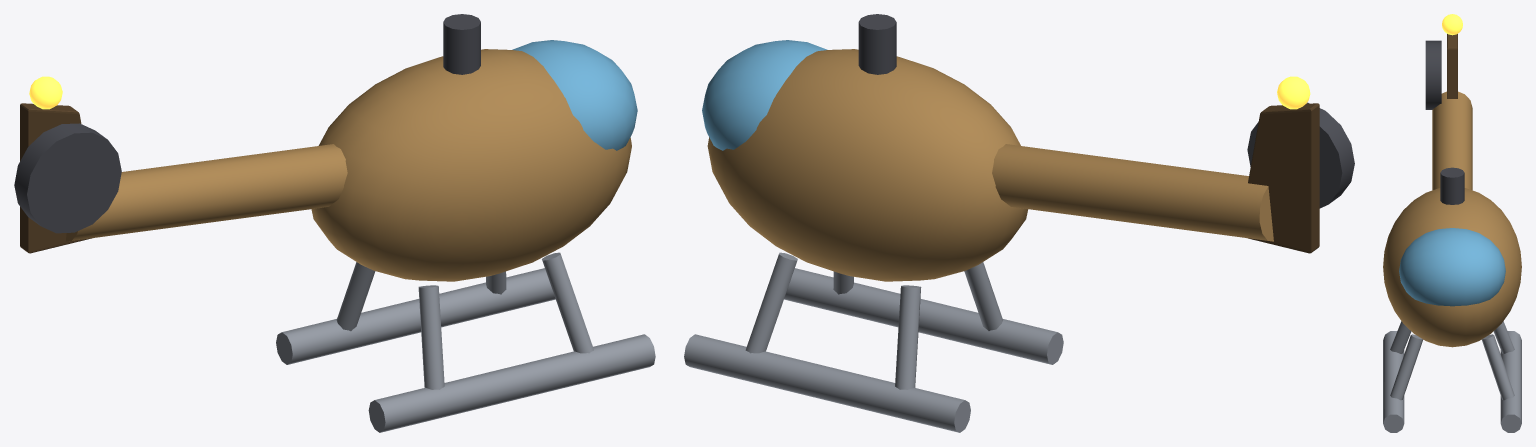
Rendered from heli_l.glb.
3 views of the same model, side by side, from view 1: azimuth 30°, elevation 25°; view 2: azimuth 150°, elevation 25°; view 3: azimuth 270°, elevation 25° (orthographic). The views are drawn at different scales.
Visible parts, largest first — view 1: body, boom, skid, tail rotor, skid.001, canopy, fin, strut, mast, strut.001, strut.002, lamp; view 2: body, boom, skid.001, fin, skid, canopy, tail rotor, mast, strut.002, strut.003, strut, lamp; view 3: body, canopy, boom, skid, skid.001, tail rotor, strut.001, strut.003, mast, fin, strut, strut.002 (+1 smaller).
Part boxes in pixels (x1=…): body: x1=311, y1=49, x2=631, y2=281; boom: x1=65, y1=144, x2=347, y2=241; skid: x1=368, y1=334, x2=655, y2=432; tail rotor: x1=14, y1=123, x2=121, y2=233; skid.001: x1=276, y1=268, x2=555, y2=364; canopy: x1=512, y1=40, x2=637, y2=150; fin: x1=20, y1=103, x2=91, y2=253; strut: x1=418, y1=285, x2=444, y2=389; mast: x1=443, y1=14, x2=480, y2=74; strut.001: x1=542, y1=252, x2=593, y2=353; strut.002: x1=336, y1=262, x2=375, y2=331; lamp: x1=29, y1=76, x2=62, y2=109; body: x1=707, y1=49, x2=1027, y2=281; boom: x1=992, y1=144, x2=1273, y2=241; skid.001: x1=684, y1=334, x2=970, y2=432; fin: x1=1248, y1=103, x2=1319, y2=253; skid: x1=784, y1=268, x2=1063, y2=364; canopy: x1=702, y1=40, x2=827, y2=150; tail rotor: x1=1247, y1=102, x2=1354, y2=208; mast: x1=858, y1=14, x2=896, y2=74; strut.002: x1=895, y1=285, x2=921, y2=389; strut.003: x1=745, y1=252, x2=797, y2=353; strut: x1=964, y1=262, x2=1002, y2=330; lamp: x1=1277, y1=76, x2=1310, y2=109; body: x1=1383, y1=188, x2=1521, y2=347; canopy: x1=1399, y1=228, x2=1505, y2=306; boom: x1=1432, y1=91, x2=1472, y2=190; skid: x1=1383, y1=331, x2=1404, y2=432; skid.001: x1=1500, y1=331, x2=1521, y2=432; tail rotor: x1=1425, y1=40, x2=1441, y2=109; strut.001: x1=1390, y1=334, x2=1423, y2=400; strut.003: x1=1481, y1=334, x2=1514, y2=400; mast: x1=1440, y1=167, x2=1464, y2=204; fin: x1=1447, y1=34, x2=1457, y2=98; strut: x1=1390, y1=321, x2=1411, y2=353; strut.002: x1=1493, y1=321, x2=1514, y2=353.
Bounding box in the file's own units: 17 × 10.18 × 5.2.
